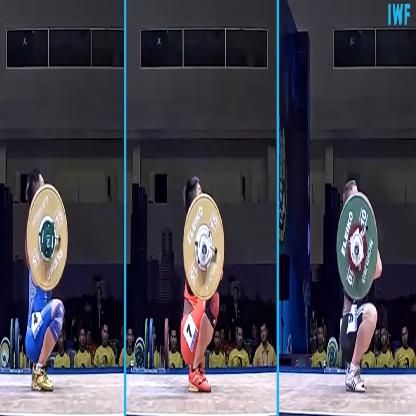Barbell: (332, 179, 381, 307), (24, 178, 73, 298), (179, 190, 227, 302)
